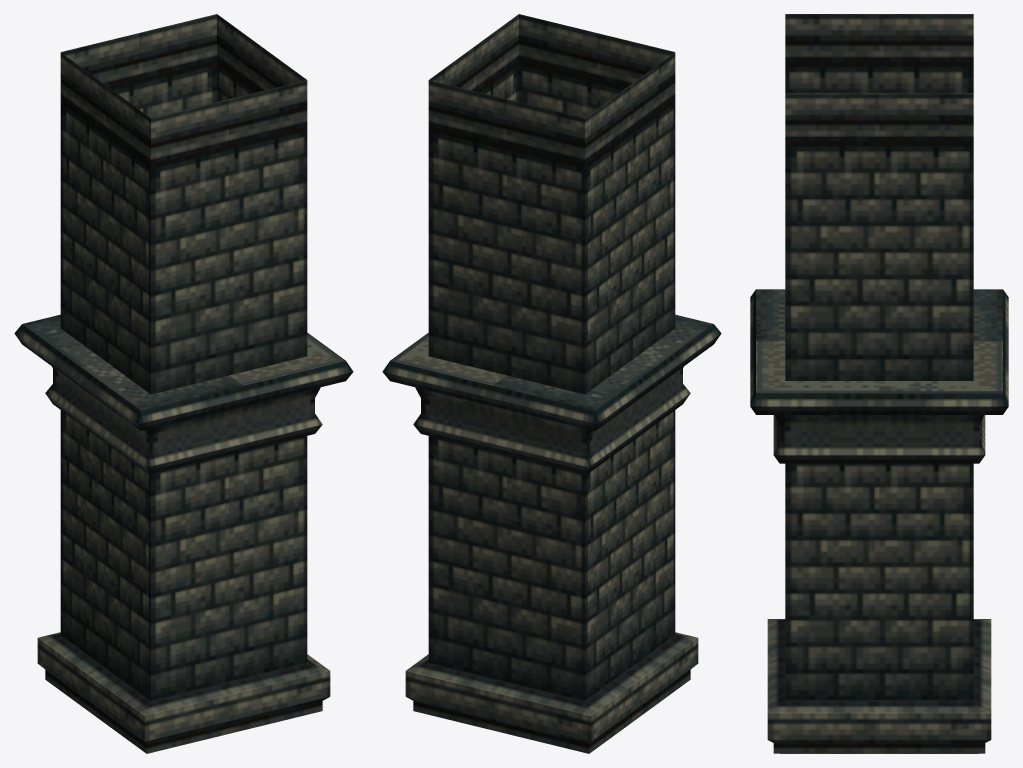
The model's file is EnvBdgMD_Castle_Raimei_A_BridgeFoot_A_Start_B.FBX.
The picture shows the model from 3 angles, left to right: view 1: azimuth 30°, elevation 25°; view 2: azimuth 150°, elevation 25°; view 3: azimuth 270°, elevation 25°; orthographic projection. The views are drawn at different scales.
Visible parts, largest first — view 1: EnvBdgMD_Castle_Raimei_A_BridgeFoot_A_Start_B; view 2: EnvBdgMD_Castle_Raimei_A_BridgeFoot_A_Start_B; view 3: EnvBdgMD_Castle_Raimei_A_BridgeFoot_A_Start_B.
Part boxes in pixels (x1,y1,x2,y2): EnvBdgMD_Castle_Raimei_A_BridgeFoot_A_Start_B: [14, 14, 353, 753]; EnvBdgMD_Castle_Raimei_A_BridgeFoot_A_Start_B: [382, 14, 721, 753]; EnvBdgMD_Castle_Raimei_A_BridgeFoot_A_Start_B: [750, 14, 1008, 753].
Size of the model in its own units: 220 by 620 by 220.
